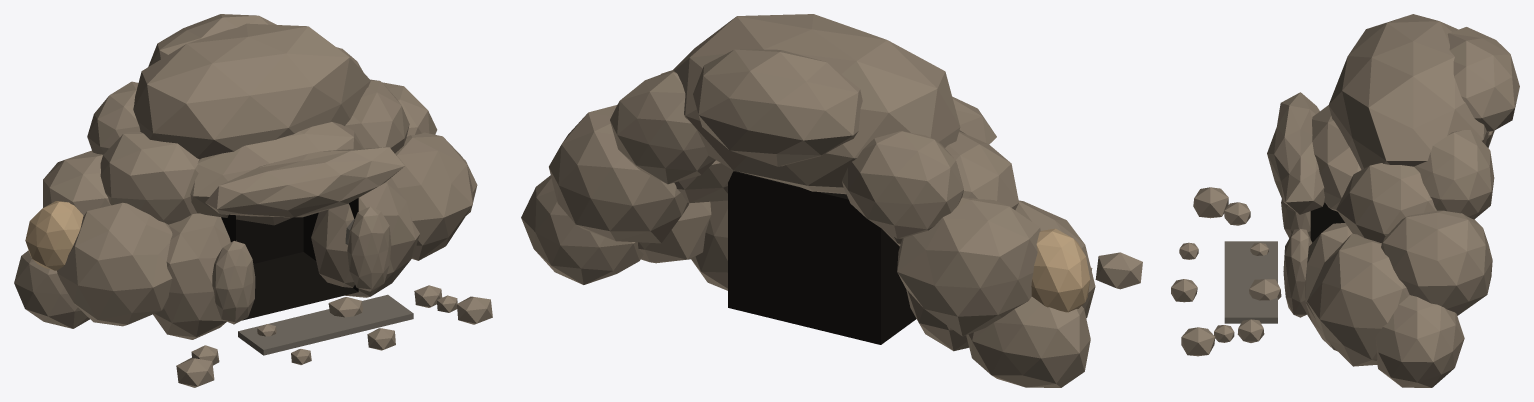
File: tambotoco_cave_lod0.glb
3 renders of one model, left to right at view 1: azimuth 30°, elevation 25°; view 2: azimuth 150°, elevation 25°; view 3: azimuth 270°, elevation 25°, orthographic. The views are drawn at different scales.
Parts seen in each view (by area): view 1: tambotoco_cave; view 2: tambotoco_cave; view 3: tambotoco_cave.
Boxes of the visible parts, box(x1,y1,x2,y2) form: tambotoco_cave: box(14, 14, 492, 387); tambotoco_cave: box(521, 14, 1142, 387); tambotoco_cave: box(1171, 14, 1519, 387).
Bounding box in the file's own units: 13.15 × 7.28 × 8.51.
